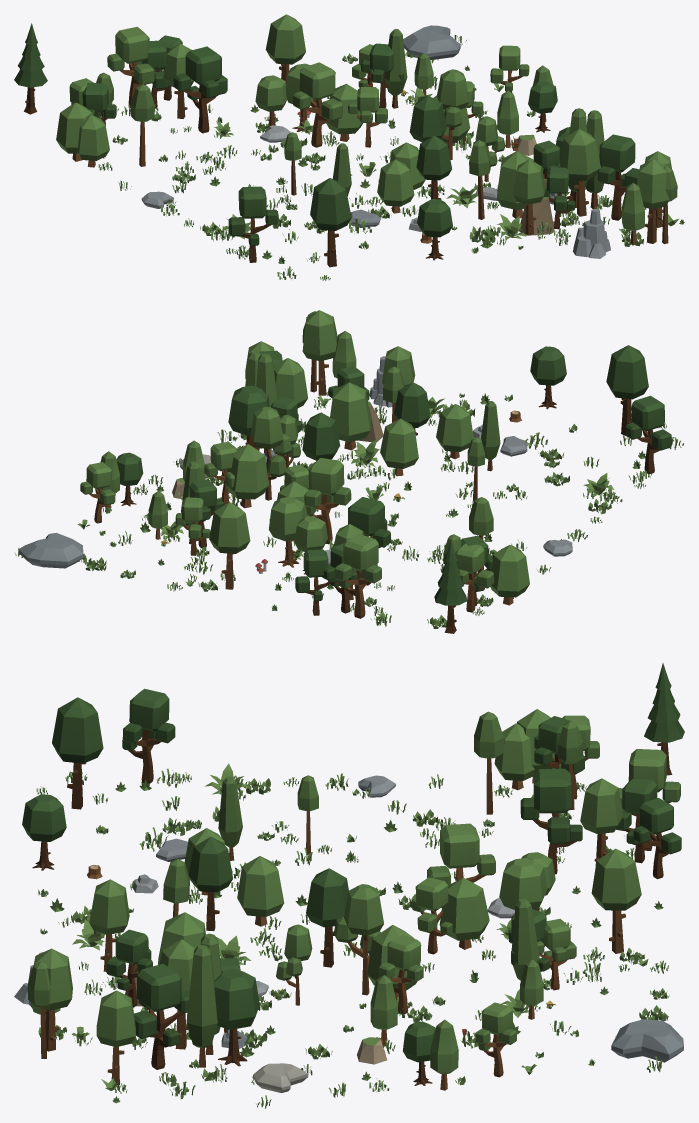
The model's file is cell_x-3_z-1_render.gltf.
The picture shows the model from 3 angles, top to bottom: view 1: azimuth 30°, elevation 25°; view 2: azimuth 150°, elevation 25°; view 3: azimuth 270°, elevation 25°; orthographic projection. The views are drawn at different scales.
Parts seen in each view (by area): view 1: cell_x-3_z-1; view 2: cell_x-3_z-1; view 3: cell_x-3_z-1.
Part boxes in pixels (bbox=[...]): cell_x-3_z-1: bbox=[14, 14, 684, 280]; cell_x-3_z-1: bbox=[14, 310, 683, 633]; cell_x-3_z-1: bbox=[14, 663, 684, 1108].
Bounding box in the file's own units: 41.57 × 13.27 × 42.83.
